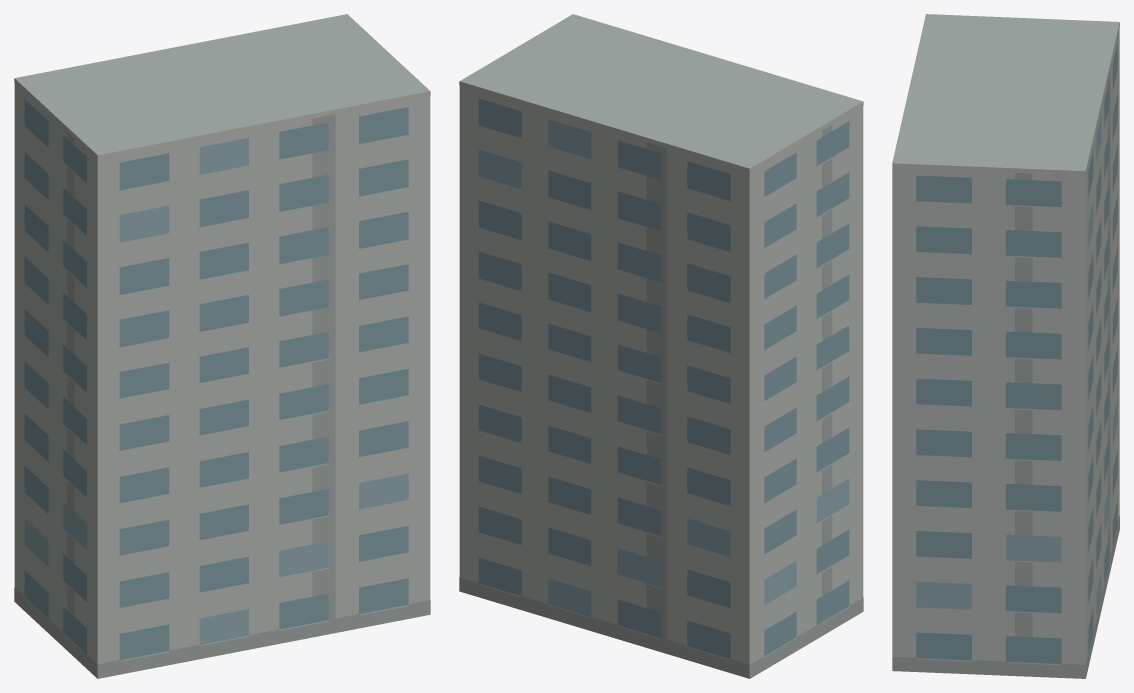
The model's file is residential-2849da63-d1dc-4c80-8abc-14efe6b5c7e3.glb.
The picture shows the model from 3 angles, left to right: view 1: azimuth 30°, elevation 25°; view 2: azimuth 150°, elevation 25°; view 3: azimuth 270°, elevation 25°; orthographic projection. The views are drawn at different scales.
Visible parts, largest first — view 1: residential-2849da63-d1dc-4c80-8abc-14efe6b5c7e3.tmp; view 2: residential-2849da63-d1dc-4c80-8abc-14efe6b5c7e3.tmp; view 3: residential-2849da63-d1dc-4c80-8abc-14efe6b5c7e3.tmp.
Boxes of the visible parts, x1,y1,x2,y2 form: residential-2849da63-d1dc-4c80-8abc-14efe6b5c7e3.tmp: (14,14,430,678); residential-2849da63-d1dc-4c80-8abc-14efe6b5c7e3.tmp: (459,14,863,678); residential-2849da63-d1dc-4c80-8abc-14efe6b5c7e3.tmp: (892,14,1119,678).
Size of the model in its own units: 17.93 by 27 by 10.98.
